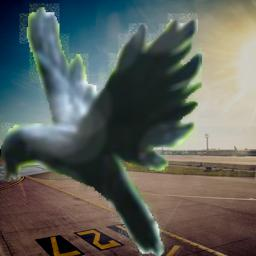Crow: (1, 0, 202, 256)
